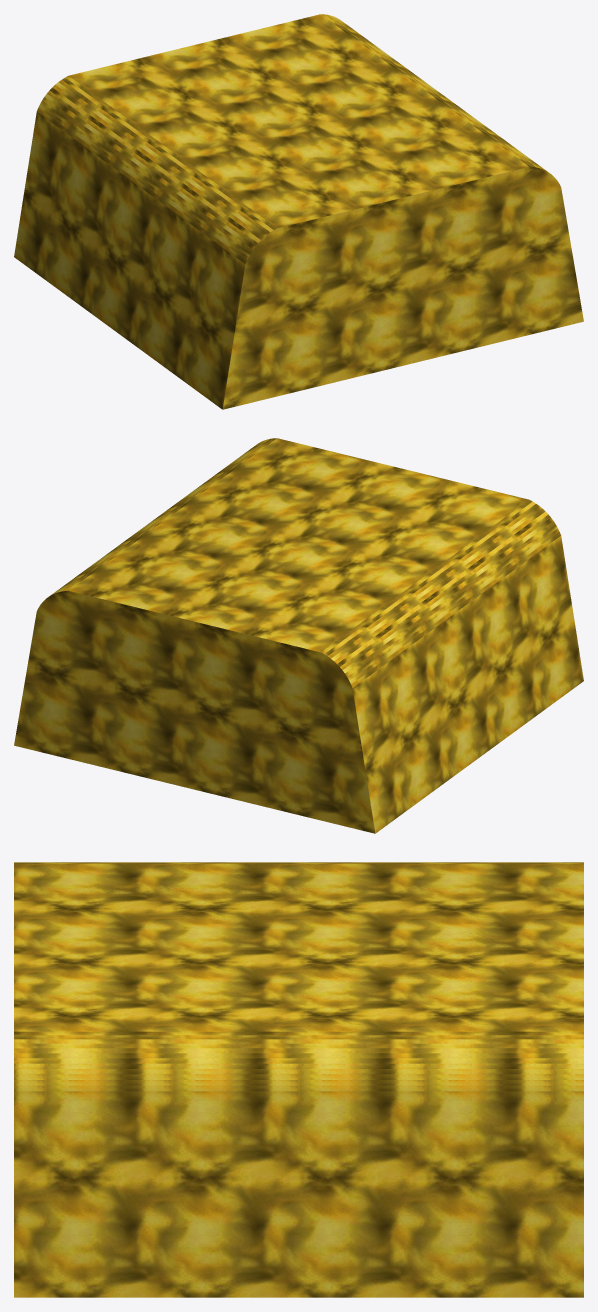
File: original-150.obj
3 renders of one model, top to bottom at view 1: azimuth 30°, elevation 25°; view 2: azimuth 150°, elevation 25°; view 3: azimuth 270°, elevation 25°, orthographic. The views are drawn at different scales.
Parts seen in each view (by area): view 1: Group_1_108/Group_1/mesh1/mesh1-geometry#mesh1-geometry; view 2: Group_1_108/Group_1/mesh1/mesh1-geometry#mesh1-geometry; view 3: Group_1_108/Group_1/mesh1/mesh1-geometry#mesh1-geometry.
Boxes of the visible parts, <box> form: Group_1_108/Group_1/mesh1/mesh1-geometry#mesh1-geometry: <box>14,14,583,409</box>; Group_1_108/Group_1/mesh1/mesh1-geometry#mesh1-geometry: <box>14,438,583,833</box>; Group_1_108/Group_1/mesh1/mesh1-geometry#mesh1-geometry: <box>14,862,583,1297</box>.
Size of the model in its own units: 0.0524 by 0.0233 by 0.0524.
